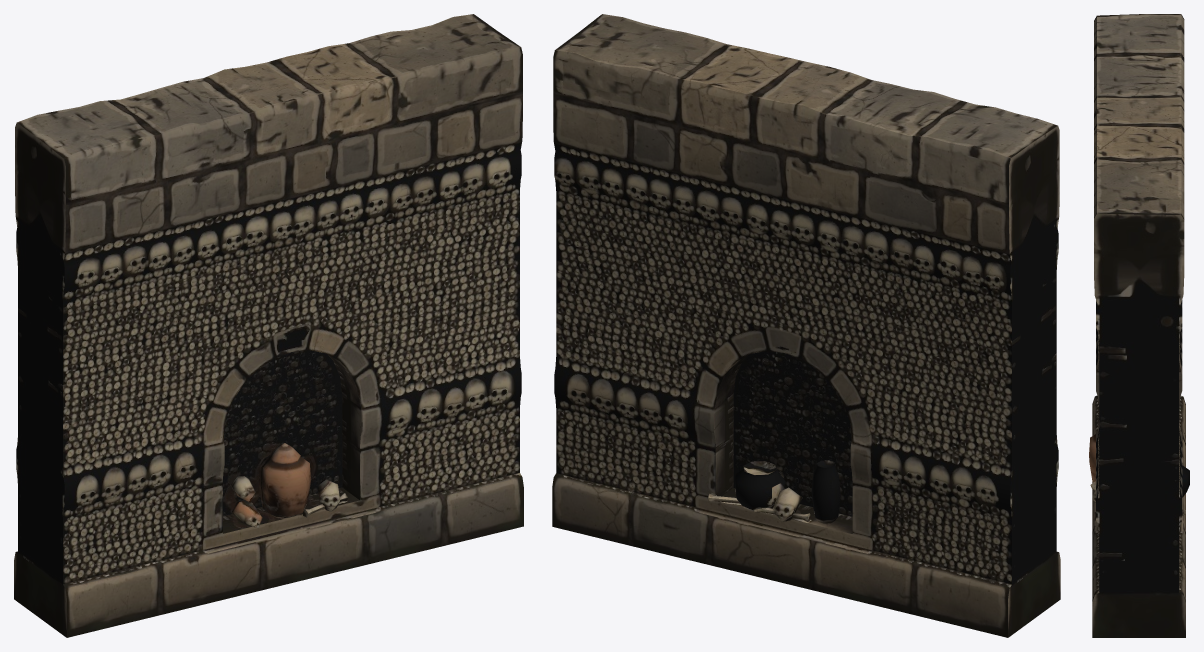
Rendered from catacomb_wall_b.glb.
3 renders of one model, left to right at view 1: azimuth 30°, elevation 25°; view 2: azimuth 150°, elevation 25°; view 3: azimuth 270°, elevation 25°, orthographic. The views are drawn at different scales.
Visible parts, largest first — view 1: catacomb_wall_b; view 2: catacomb_wall_b; view 3: catacomb_wall_b.
Boxes of the visible parts, box(x1,y1,x2,y2) form: catacomb_wall_b: box(14, 14, 523, 637); catacomb_wall_b: box(552, 14, 1060, 637); catacomb_wall_b: box(1089, 14, 1189, 637).
Size of the model in its own units: 4 by 4.03 by 0.8596.
1 material, 1 textured.
